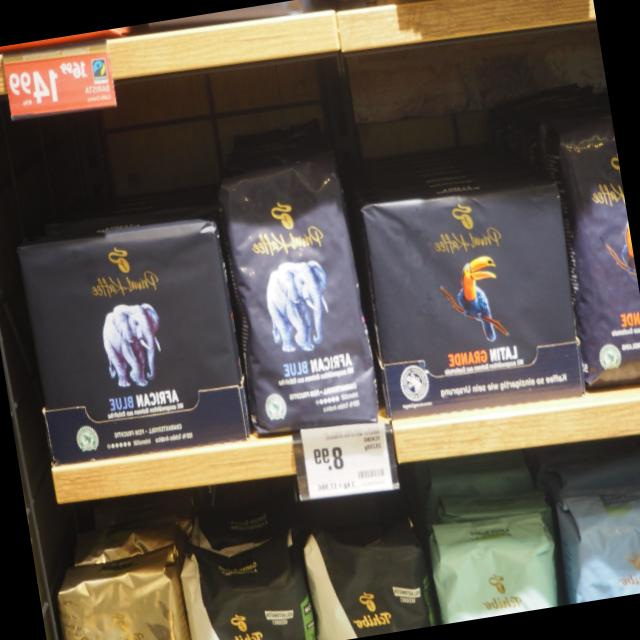AB Bohne: (210, 140, 383, 444)
AB Gemahlen: (12, 209, 252, 466)
LG Gemahlen: (357, 179, 588, 417)
